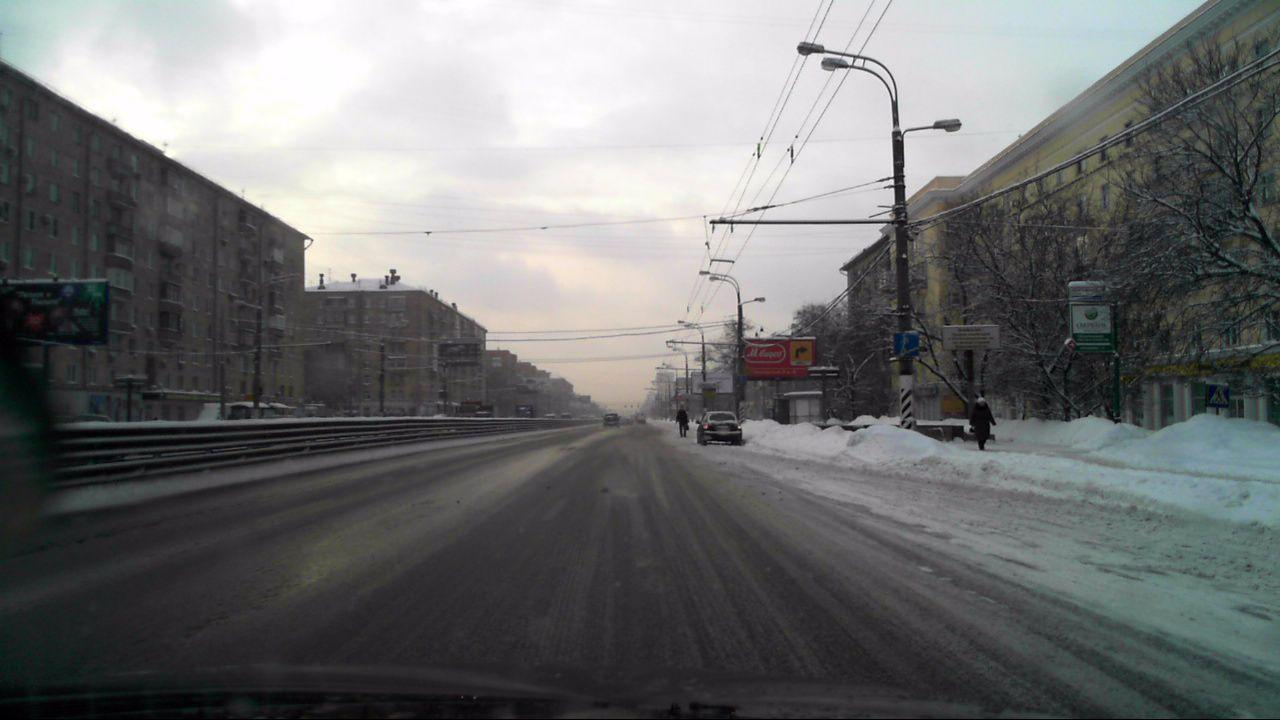6_6: (894, 331, 919, 357)
